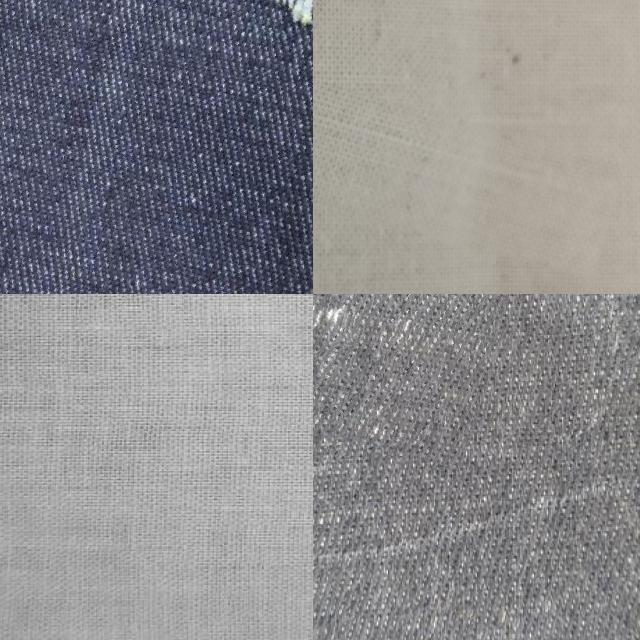Thread_other: (313, 43, 623, 242), (313, 294, 498, 450)
